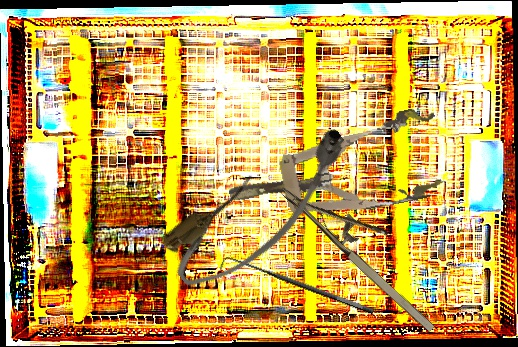Cannula: (154, 115, 371, 303)
Hook Surgical: (216, 249, 376, 327)
Needle Holder: (279, 158, 459, 337)
Speculum: (220, 104, 451, 238)
